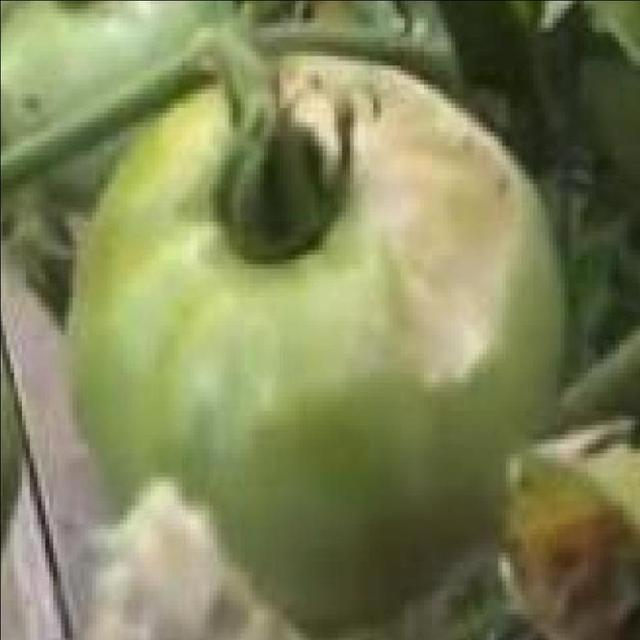Sunscald Fruit: (191, 48, 352, 282)
